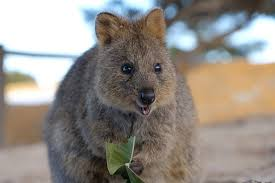quokka: (48, 9, 207, 183)
